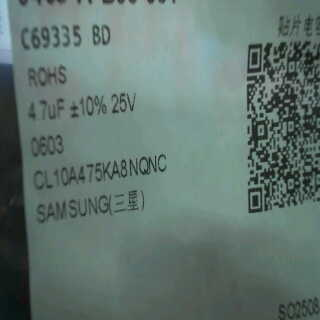4.7uF: (27, 94, 69, 124)
